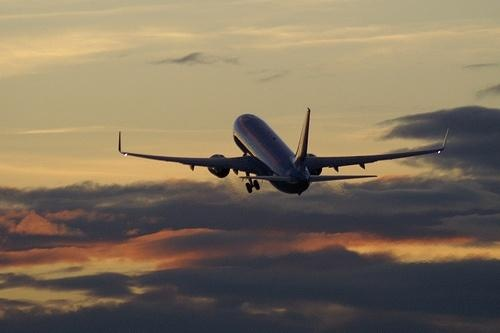aeroplane: (118, 108, 450, 197)
